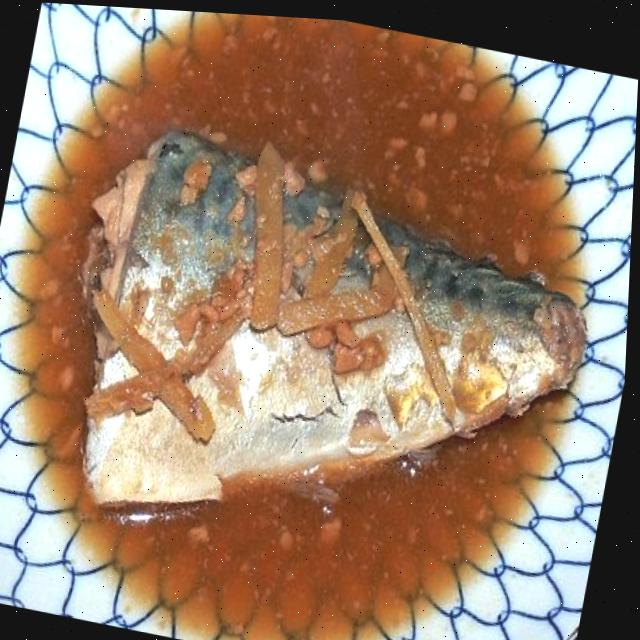熟制海鲜: (0, 62, 638, 621)
